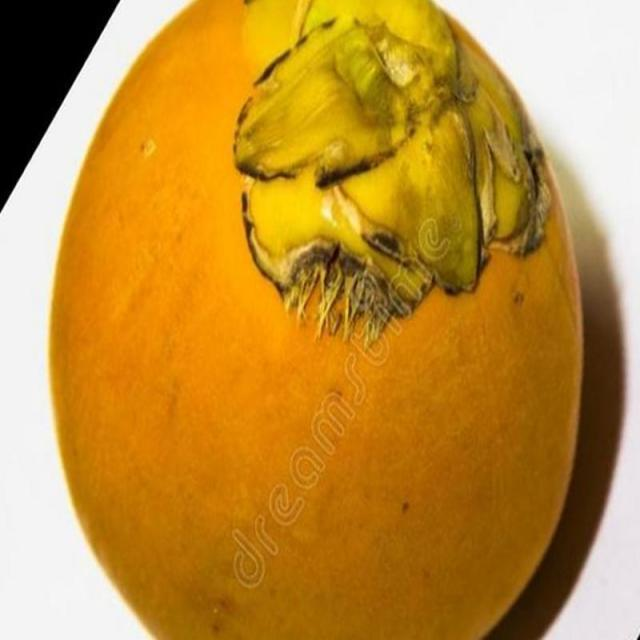good: (44, 0, 586, 639)
